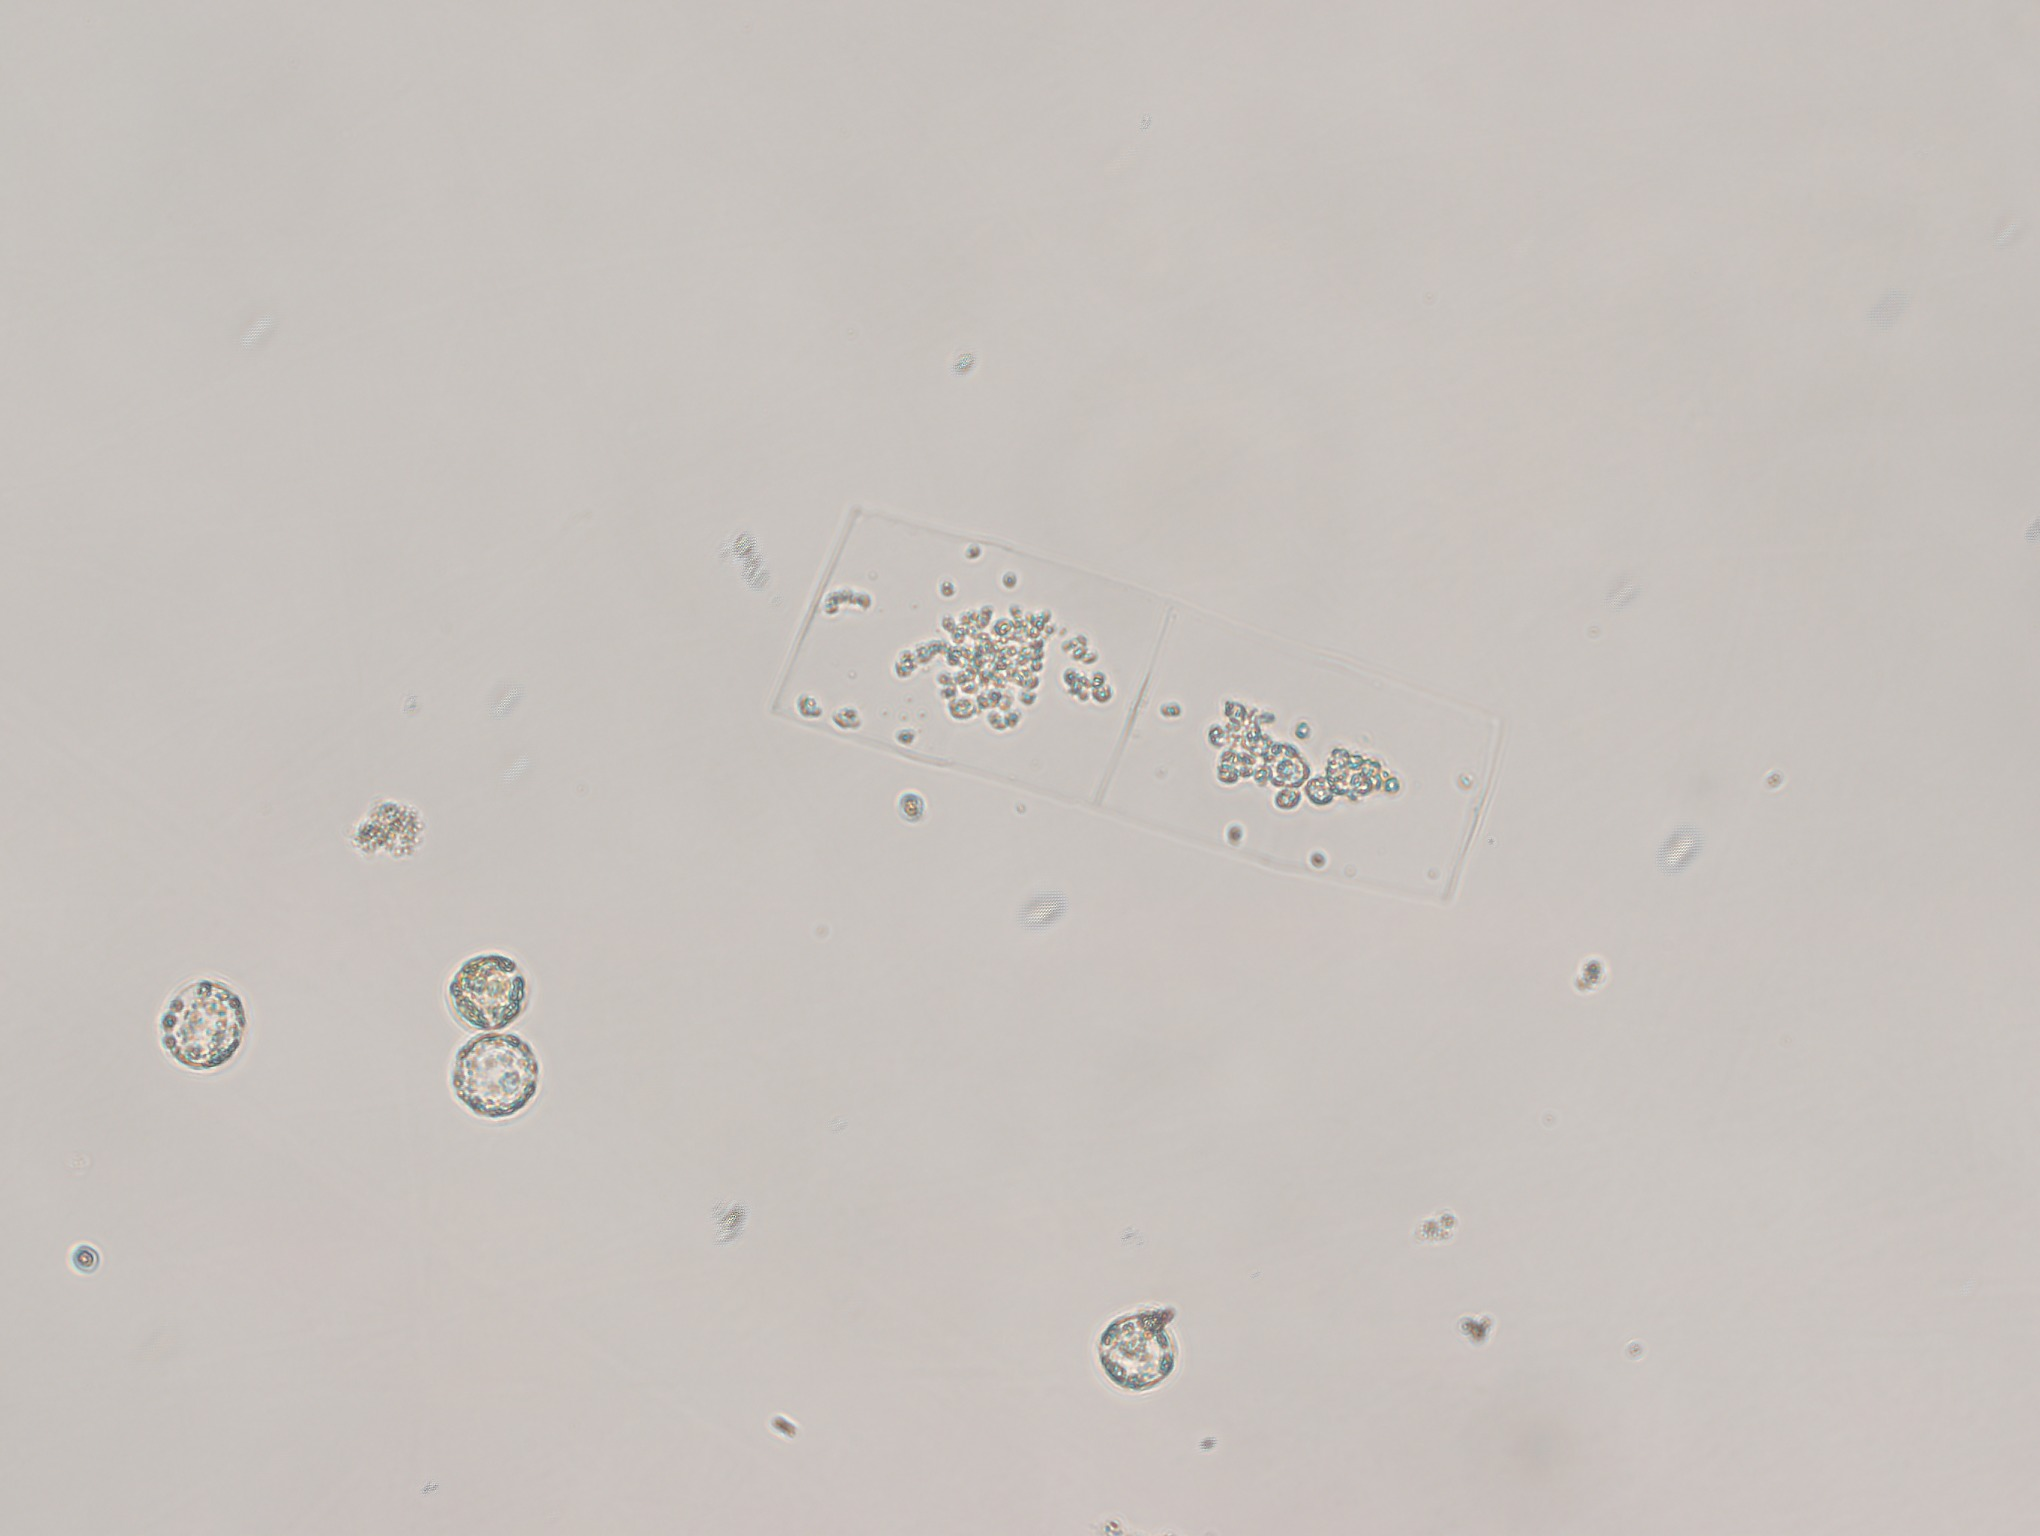helicotheca: (756, 474, 1518, 920)
